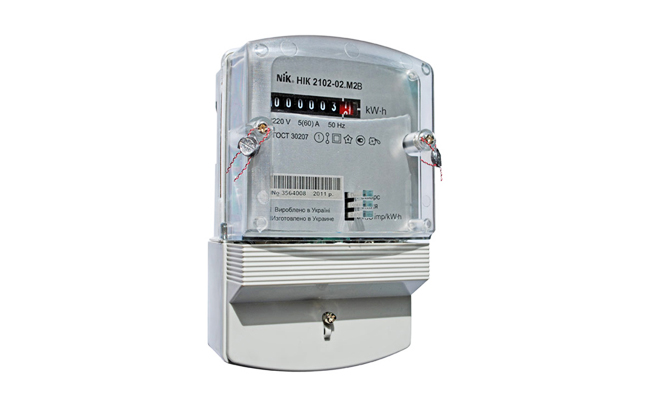counter: (234, 32, 438, 353)
counter_screen: (268, 89, 362, 120)
